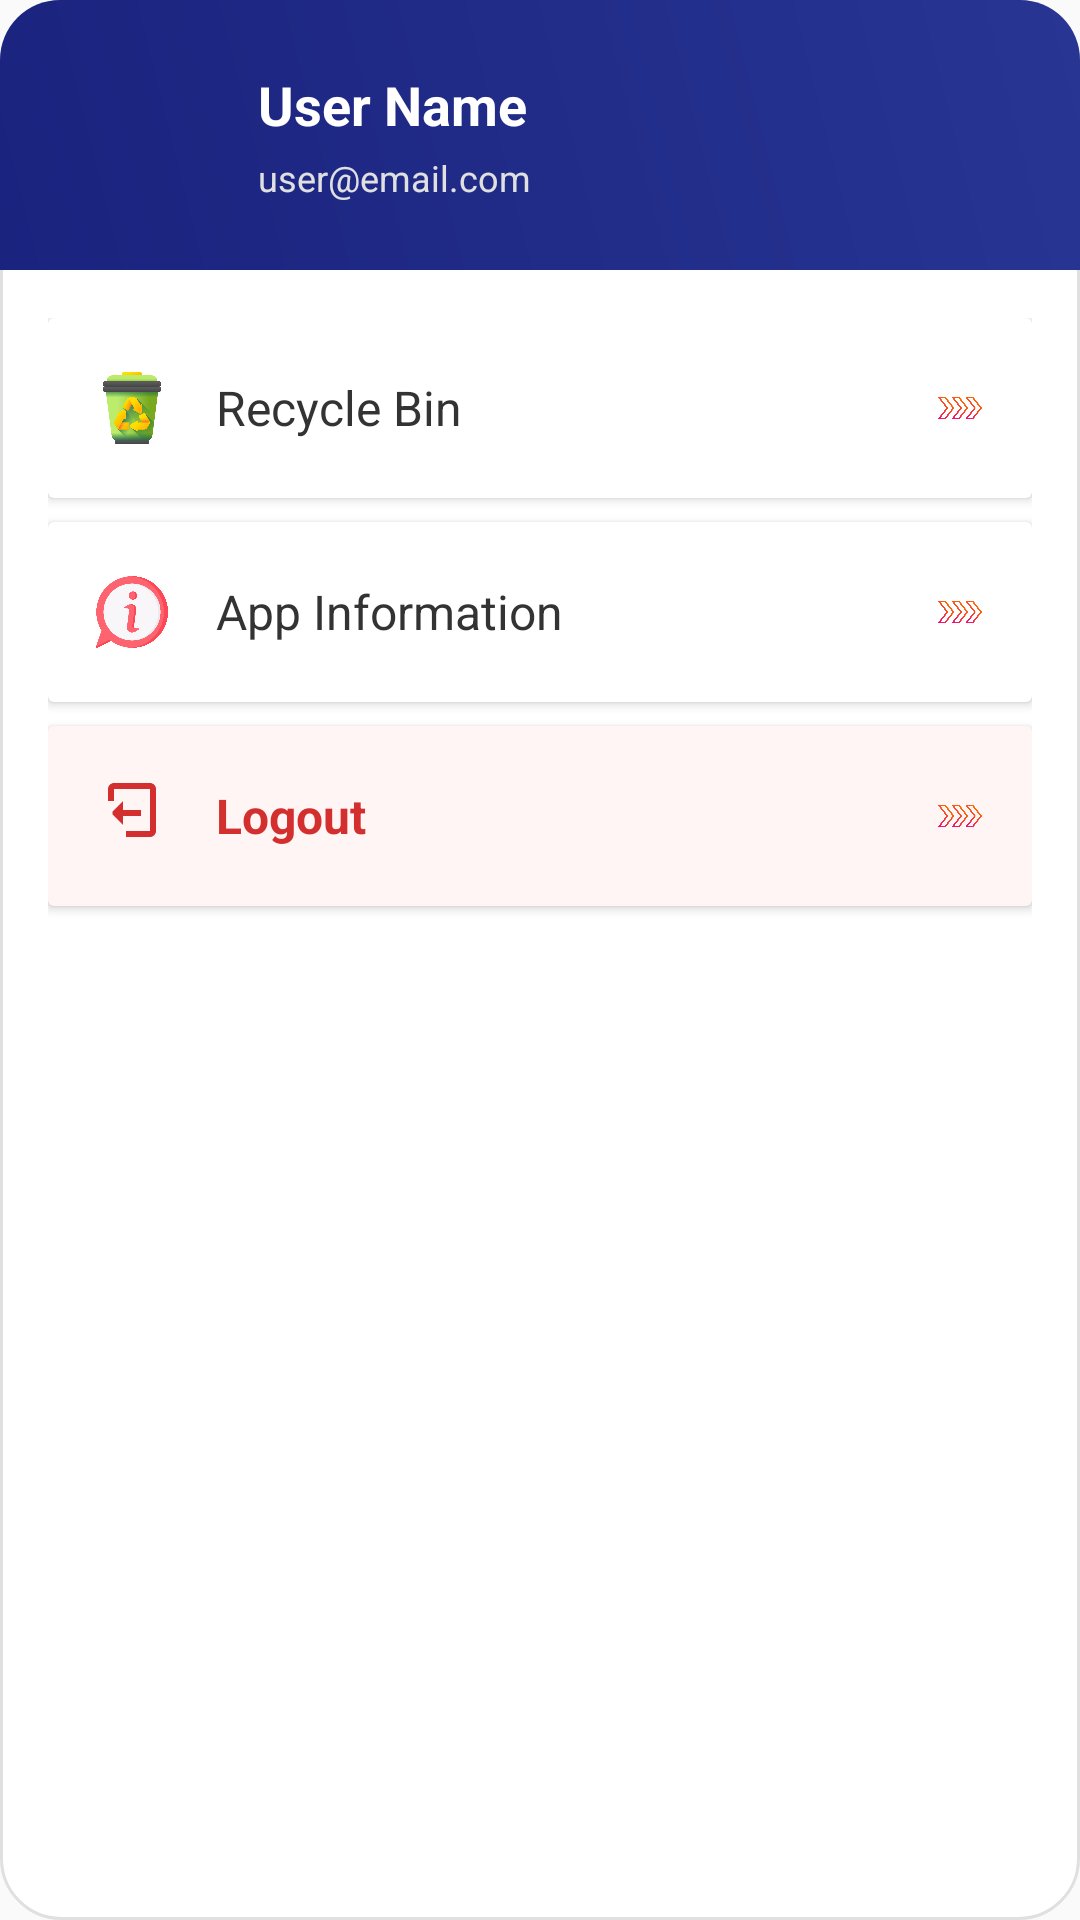

Where to tap for icons on this 1080×1920 app screen, as point (x, y):
Arrow: point (960, 408), point (960, 612), point (960, 816)
